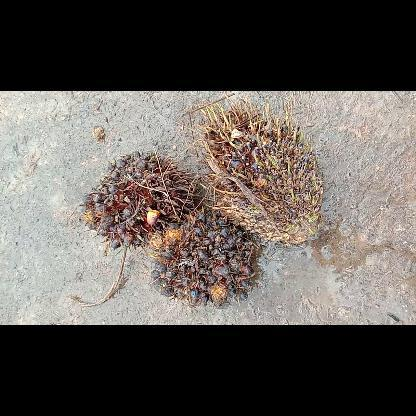TBS abnormal: (190, 91, 326, 245), (80, 150, 198, 249), (150, 210, 258, 304)
